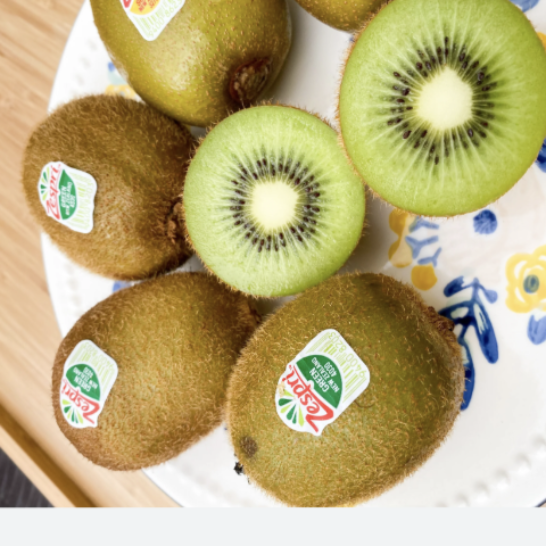kiwi: (207, 244, 462, 520), (28, 275, 272, 470), (16, 75, 207, 293)
